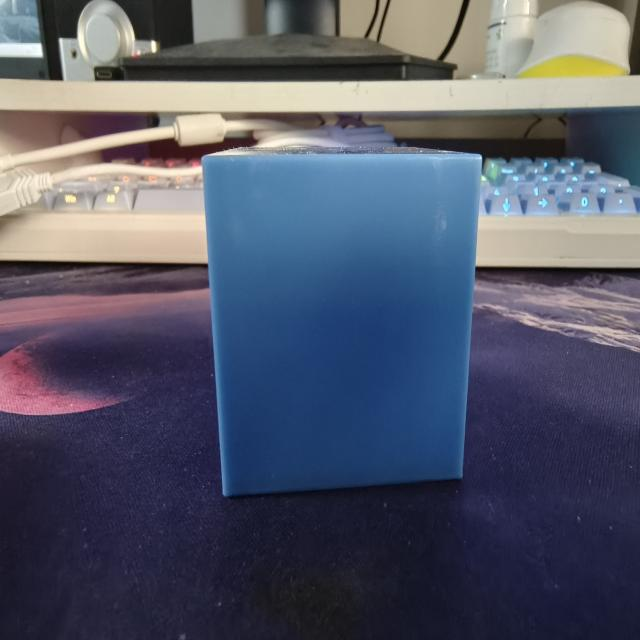blue: (197, 137, 492, 500)
